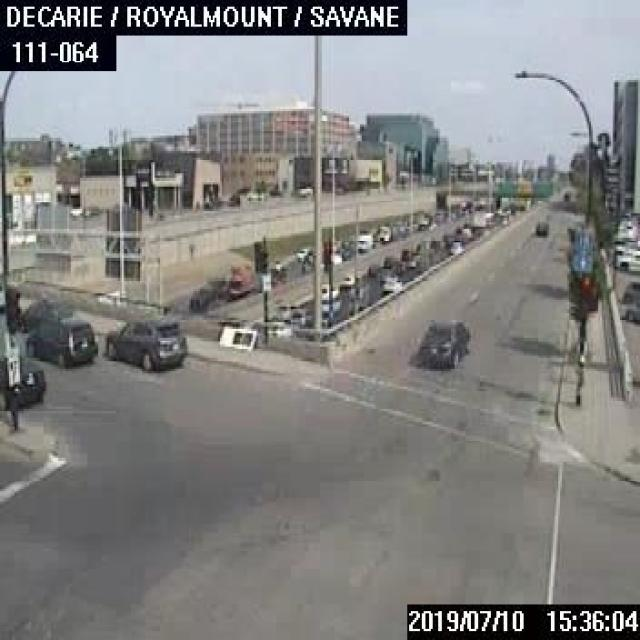vehicle: (105, 316, 186, 371), (24, 314, 96, 366), (416, 316, 469, 371), (0, 353, 44, 409), (188, 284, 217, 310), (613, 246, 638, 272), (320, 283, 339, 302), (621, 281, 638, 301), (624, 299, 638, 322), (380, 275, 401, 290), (529, 220, 546, 238), (356, 232, 372, 250), (294, 244, 311, 260), (375, 223, 390, 239), (338, 272, 353, 286)
